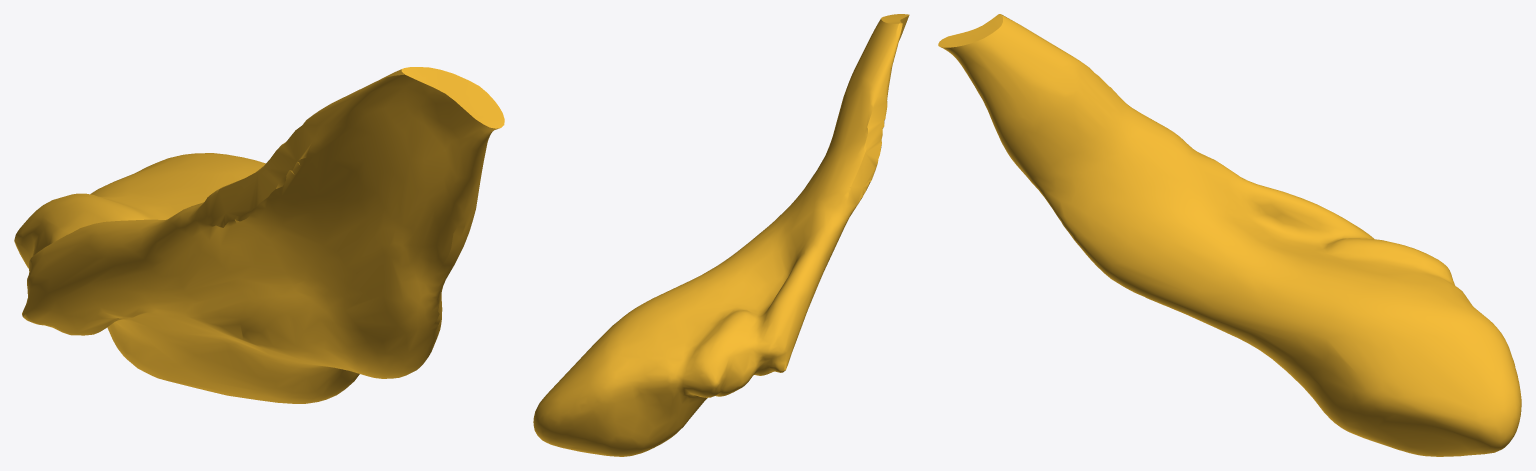
Rendered from nervoso-superior-cerebellar-peduncle-l.glb.
3 renders of one model, left to right at view 1: azimuth 30°, elevation 25°; view 2: azimuth 150°, elevation 25°; view 3: azimuth 270°, elevation 25°, orthographic. The views are drawn at different scales.
Visible parts, largest first — view 1: Superior cerebellar peduncle.l; view 2: Superior cerebellar peduncle.l; view 3: Superior cerebellar peduncle.l.
Part boxes in pixels (x1,y1,x2,y2): Superior cerebellar peduncle.l: [14, 67, 504, 403]; Superior cerebellar peduncle.l: [533, 14, 909, 456]; Superior cerebellar peduncle.l: [938, 14, 1521, 456].
Bounding box in the file's own units: 0.0137 × 0.0213 × 0.03.
